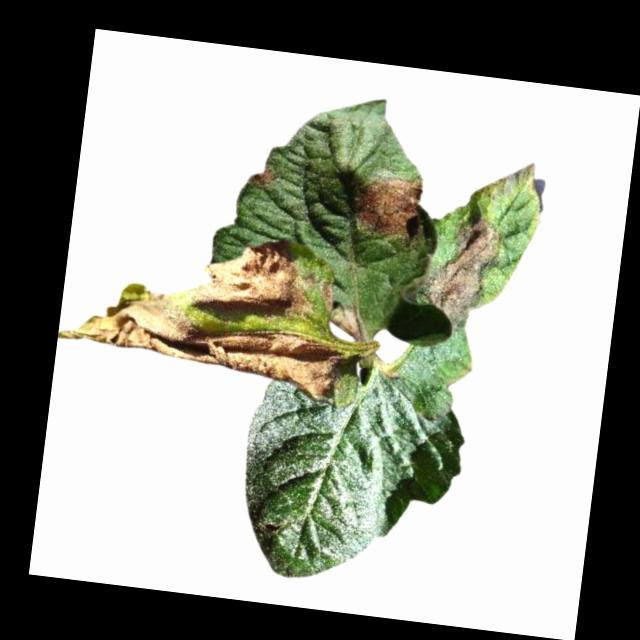Late_blight: (54, 278, 349, 402), (189, 236, 321, 326), (419, 210, 507, 333), (351, 166, 423, 241), (479, 156, 536, 204), (244, 161, 279, 191), (319, 279, 336, 310)
healthy: (231, 378, 469, 597)
